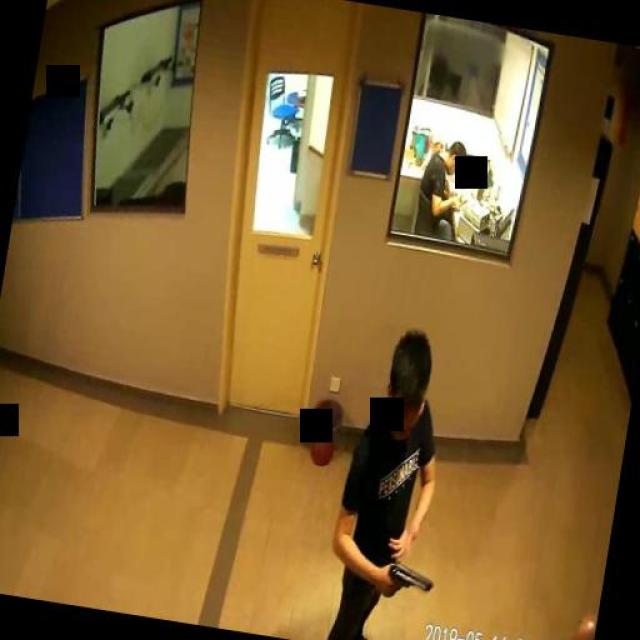gun: (383, 560, 432, 604)
